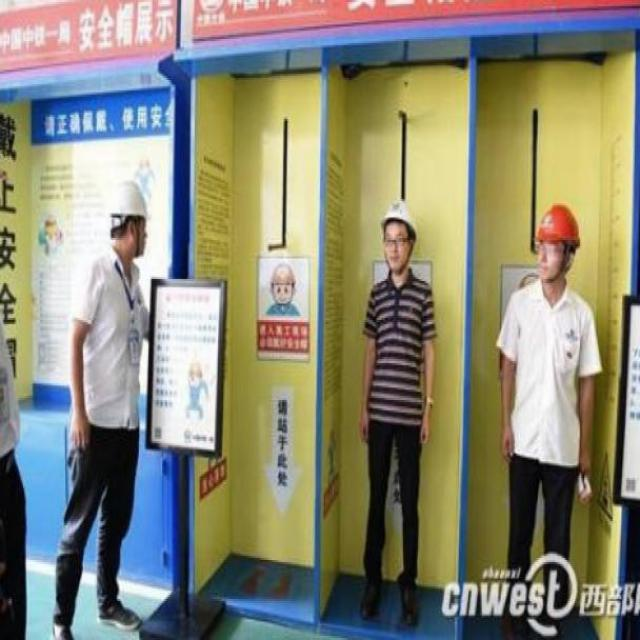helmet: (536, 187, 576, 297), (99, 170, 150, 254), (373, 190, 421, 277)
